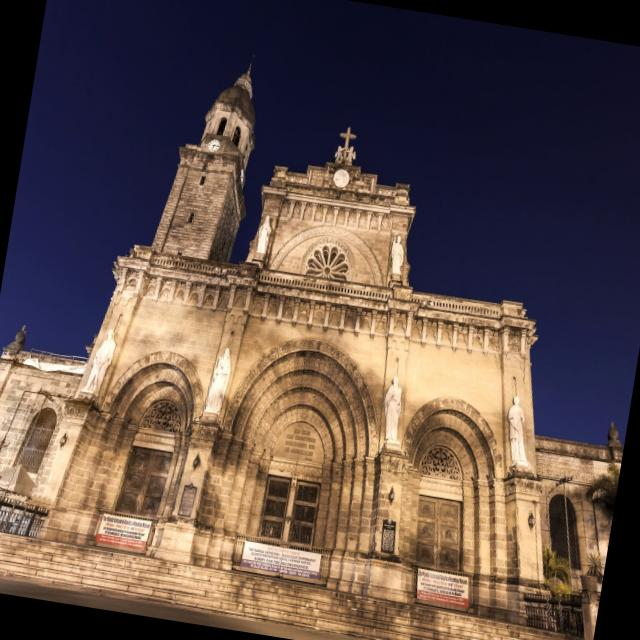Manila Cathedral: (0, 60, 624, 640)
